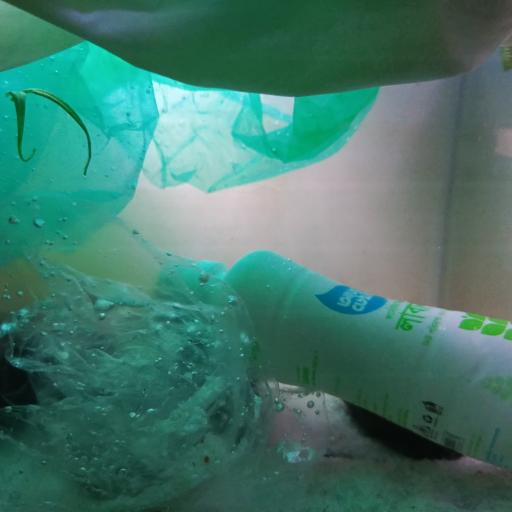glove: (0, 0, 512, 96)
plastic_bag: (1, 188, 331, 510), (0, 40, 379, 256)
plastic_bottle: (159, 250, 512, 472)
